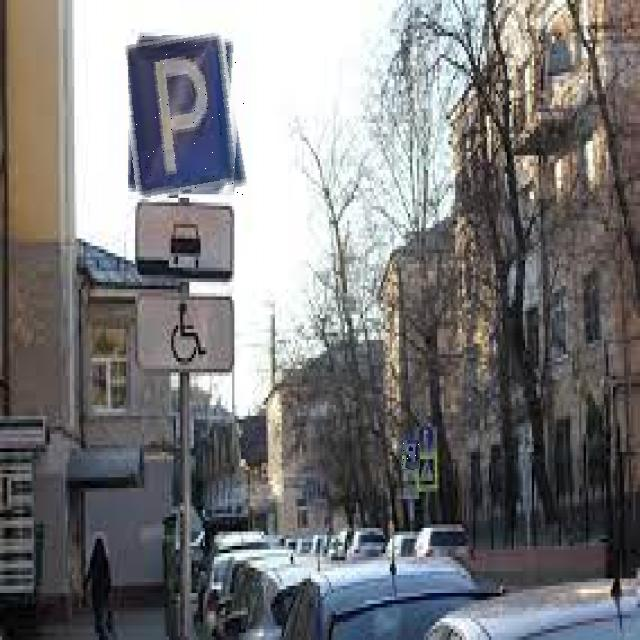parking: (128, 32, 244, 199), (402, 440, 420, 469)
